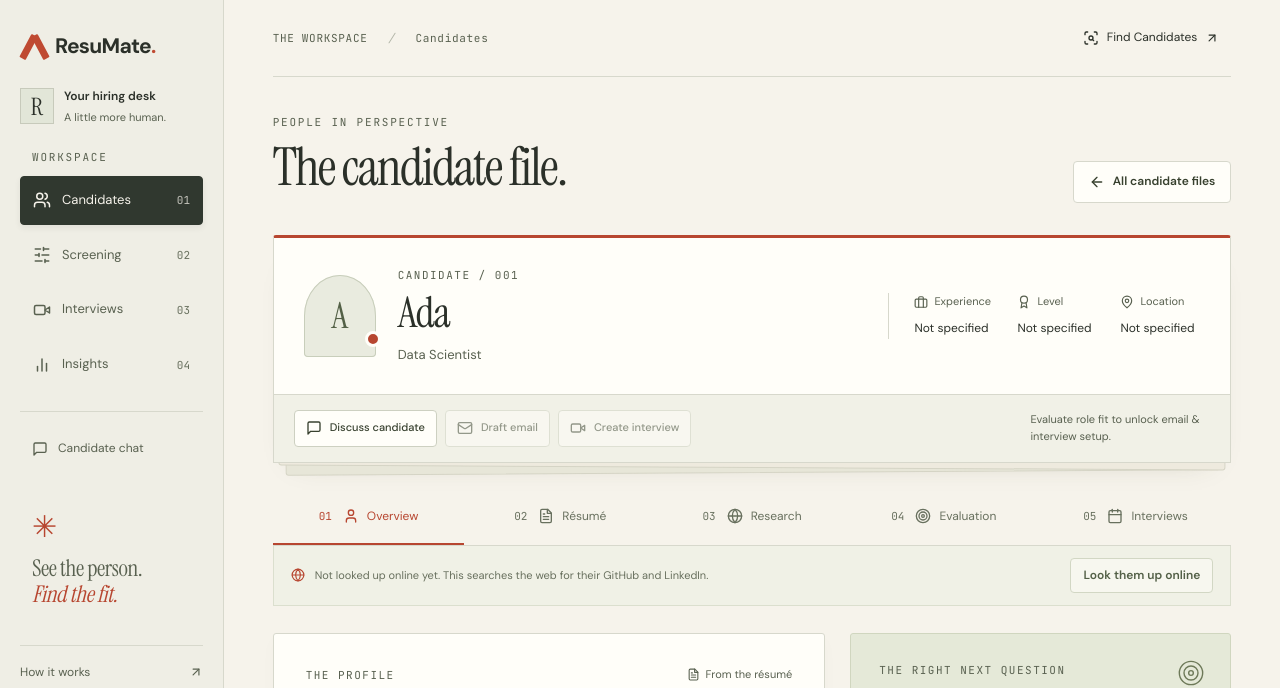
Test: looking a candidate up online › waits to be asked, says what it searches, and then looks them up
Expected: the text "Not looked up online yet. This searches the web for their GitHub and LinkedIn." is shown, [315,567,708,584]
Step 1. Click the button "Look them up online" → (1142,576), box [1070,558,1213,593]
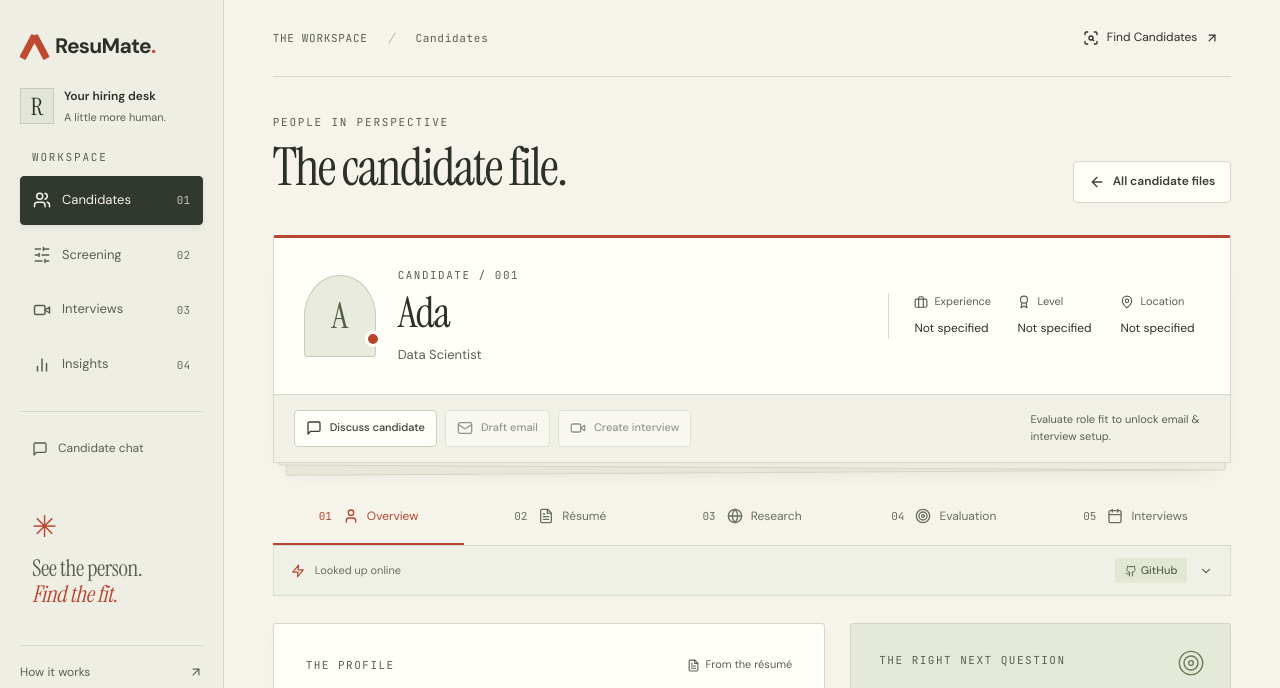
Expected: the text "Looked up online" is shown, [315,562,401,580]
Result: the button "Look them up online" is gone
